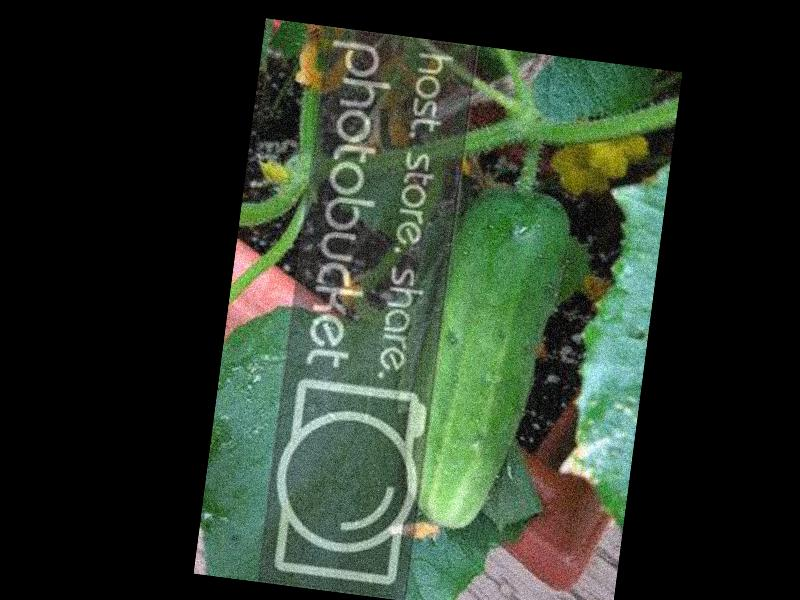Cucumber: (393, 182, 575, 541)
